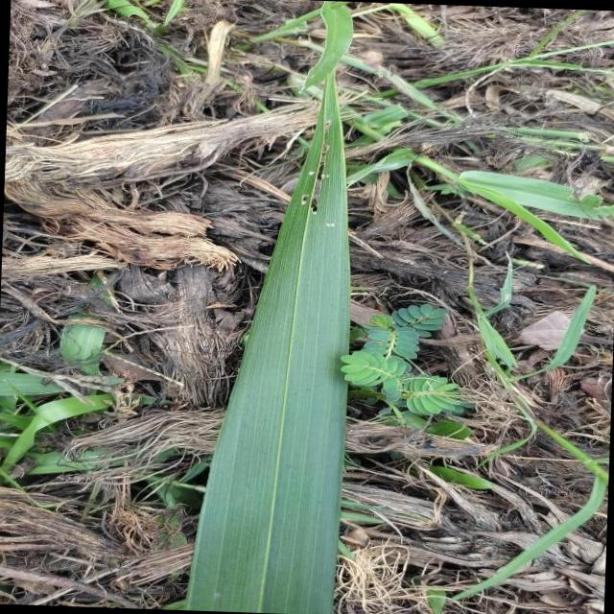Boron: (185, 5, 353, 614)
